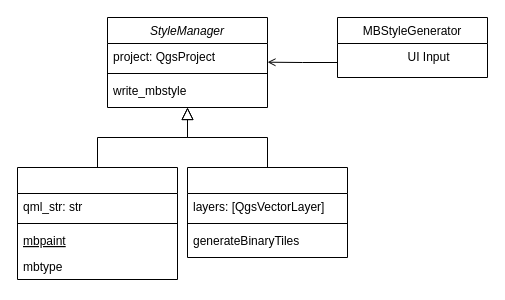
This 505x300 diagram has some shape labels left out. The box of each missing label's shape, as (x1, y1, x2, y2) in pixels:
QmlTranslator: (16, 166, 178, 280)
VectorTilesMaker: (186, 166, 348, 258)
